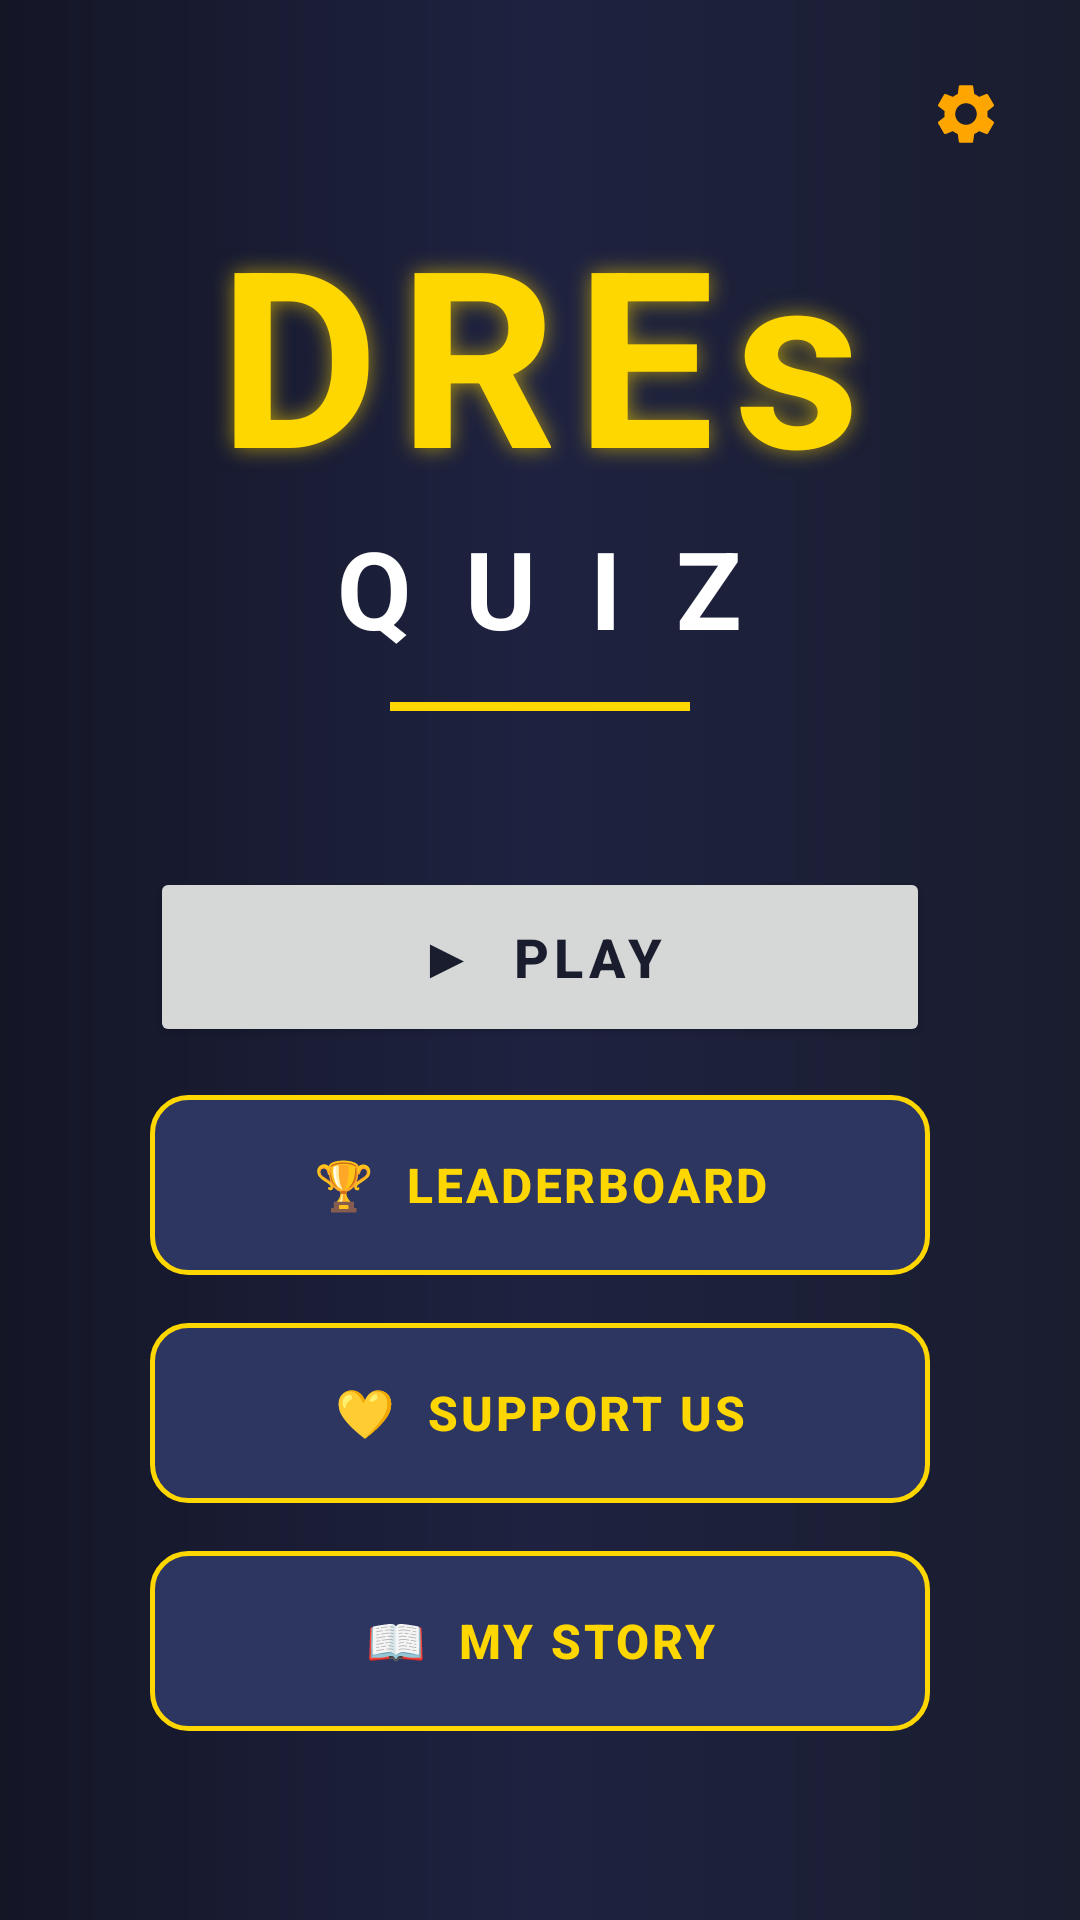

Icons on this 1080px x 1920px Android screen, each with the point to tap as (x=x, y=y):
Settings: (x=966, y=114)
